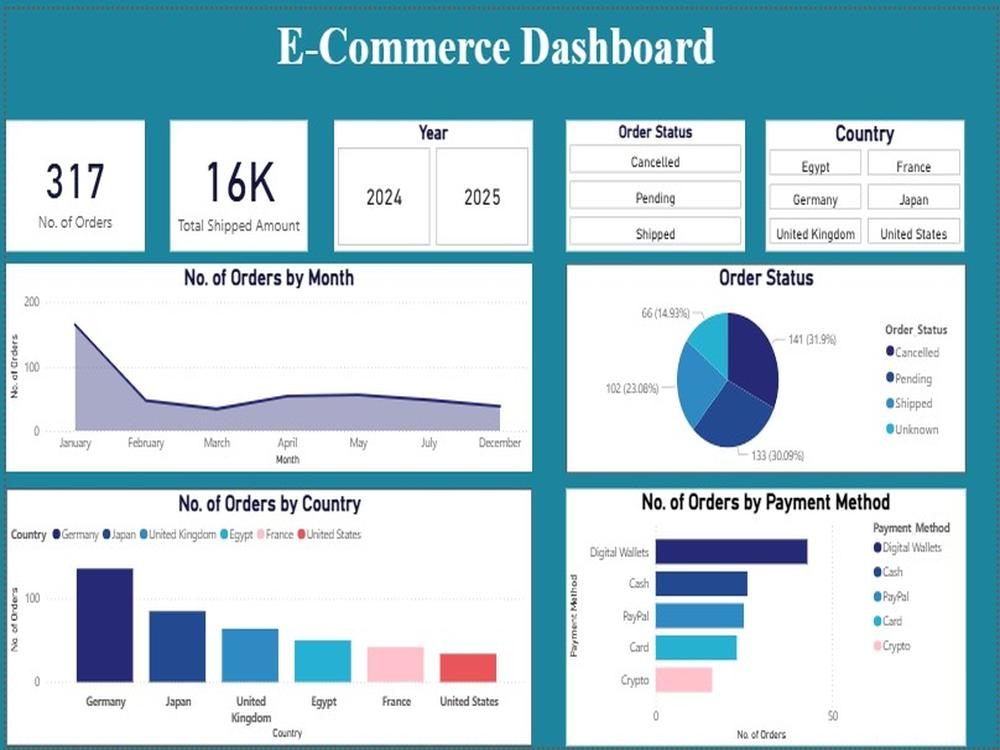

This screenshot's page, from the dashboard's own definition file:
{"tool":"powerbi","page":{"name":"Page 1","canvas":[1280,720],"ordinal":0},"visuals":[{"type":"columnChart","title":"No. of Orders by Country","fields":{"Y":["CountNonNull(Orders__2.Order_Id)"],"Category":["Cleaned_Customers.Country"],"Series":["Cleaned_Customers.Country"]},"box":[0,468.9,680,251.1],"z":0},{"type":"areaChart","title":"No. of Orders by Month","fields":{"Y":["CountNonNull(Orders__2.Order_Id)"],"Category":["Orders__2.Order_Date.Variation.Date Hierarchy.Month"]},"box":[0,247.8,680,203.3],"z":1000},{"type":"barChart","title":"No. of Orders by Payment Method","fields":{"Category":["Payments__2.Payment_Method"],"Y":["CountNonNull(Payments__2.Order_Id)"],"Series":["Payments__2.Payment_Method"]},"box":[724.4,468.9,516.7,251.1],"z":2000},{"type":"pieChart","title":"Order Status","fields":{"Category":["Orders__2.Order_Status"],"Y":["CountNonNull(Orders__2.Order_Status)"]},"box":[723.3,247.8,516.7,204.4],"z":3000},{"type":"advancedSlicerVisual","title":"Country","fields":{"Values":["Cleaned_Customers.Country"]},"box":[982.2,107.8,256.7,127.8],"z":4000},{"type":"advancedSlicerVisual","title":"Order Status","fields":{"Values":["Orders__2.Order_Status"]},"box":[724.4,107.8,231.1,127.8],"z":5000},{"type":"card","fields":{"Values":["Orders__2.Measure 3"]},"box":[0,107.8,178.9,127.8],"z":6000},{"type":"card","fields":{"Values":["Orders__2.Measure 3"]},"box":[211.1,107.8,177.8,127.8],"z":7000},{"type":"advancedSlicerVisual","fields":{"Values":["Orders__2.Order_Date.Variation.Date Hierarchy.Year"]},"box":[423.3,107.8,256.7,127.8],"z":8000},{"type":"textbox","box":[222.2,0,823.3,82.2],"z":9000}]}

Visuals, with their boxes in screenshot pixels (x1, y1, x2, y2):
"No. of Orders by Country" columnChart: bbox(5, 549, 529, 742)
"No. of Orders by Month" areaChart: bbox(5, 378, 529, 535)
"No. of Orders by Payment Method" barChart: bbox(563, 549, 961, 742)
"Order Status" pieChart: bbox(562, 378, 961, 536)
"Country" advancedSlicerVisual: bbox(762, 271, 960, 369)
"Order Status" advancedSlicerVisual: bbox(563, 271, 741, 369)
card - Orders__2.Measure 3: bbox(5, 271, 143, 369)
card - Orders__2.Measure 3: bbox(168, 271, 305, 369)
advancedSlicerVisual - Orders__2.Order_Date.Variation.Date Hierarchy.Year: bbox(331, 271, 529, 369)
textbox: bbox(176, 188, 811, 251)
